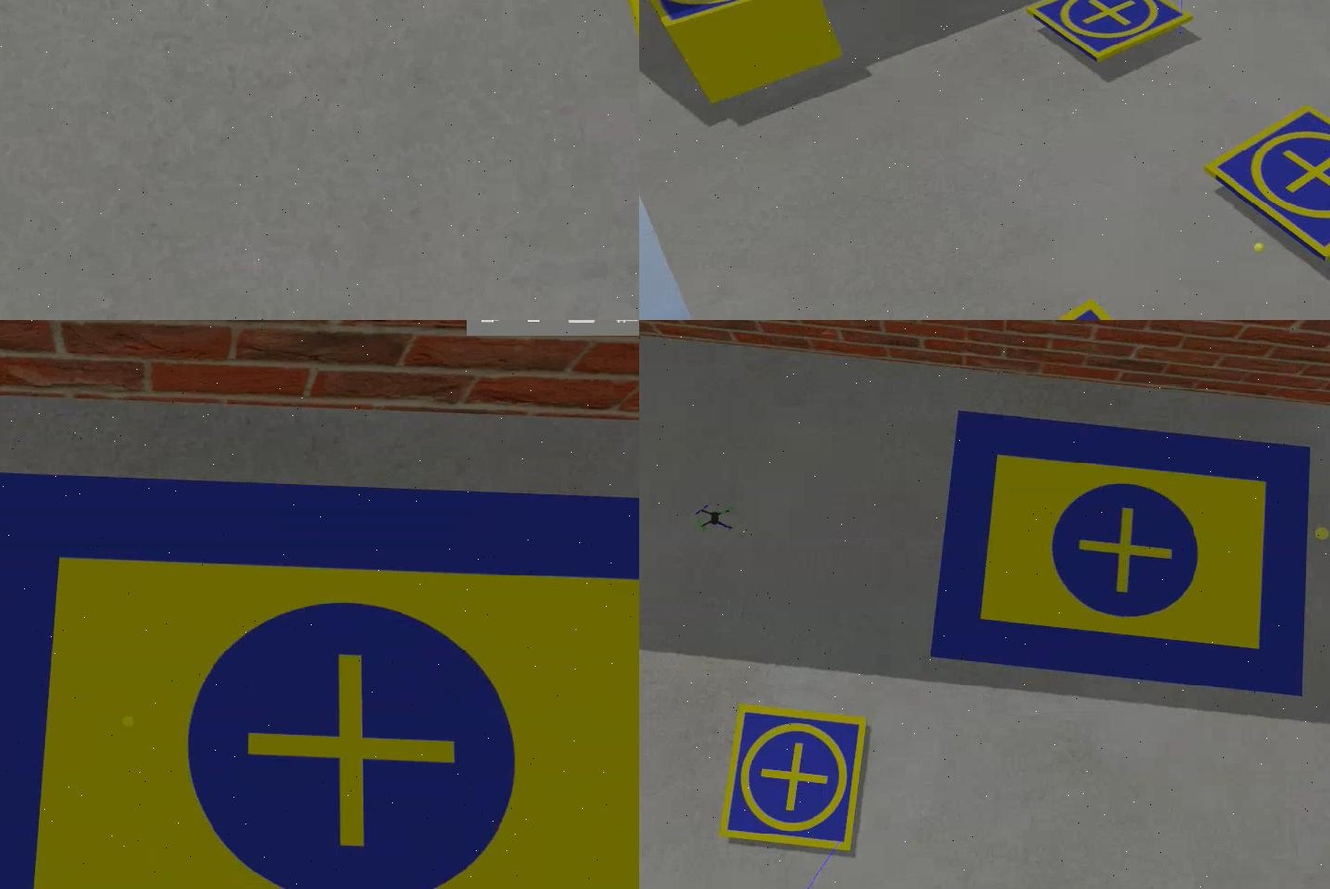large_base: (0, 473, 637, 889), (923, 411, 1316, 701)
small_base: (718, 705, 866, 857), (1202, 106, 1328, 262), (1023, 1, 1191, 66), (637, 1, 816, 33)
